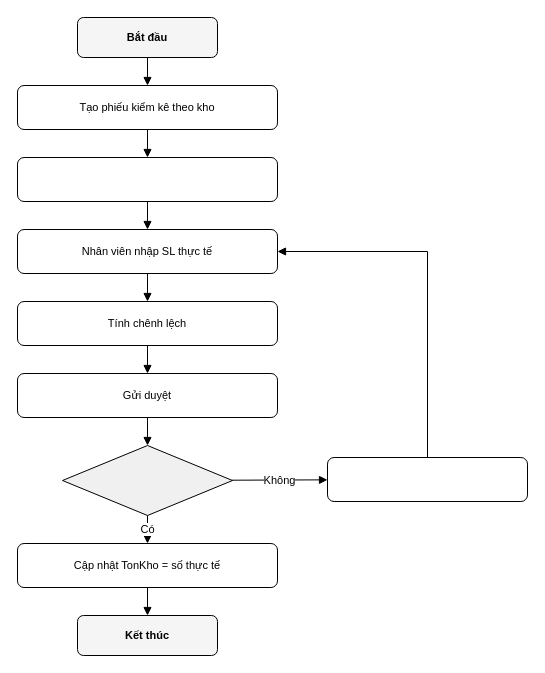
Image size: 545x673. Some labels were removed from this diagram. Here are the shapes that lost their labels. From the top down, the box of each, then its label:
(16, 156, 278, 202): Hệ thống nạp SL theo sổ (TonKho)
(62, 444, 232, 516): Quản lý duyệt điều chỉnh?
(326, 456, 528, 502): Yêu cầu kiểm đếm lại
